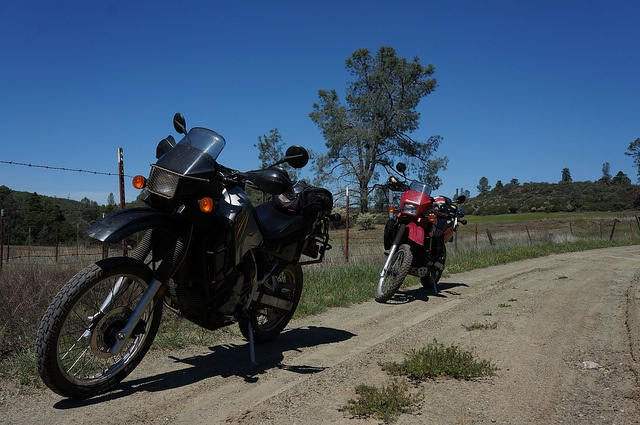non-vehicle: (34, 113, 340, 398), (373, 162, 467, 302)
